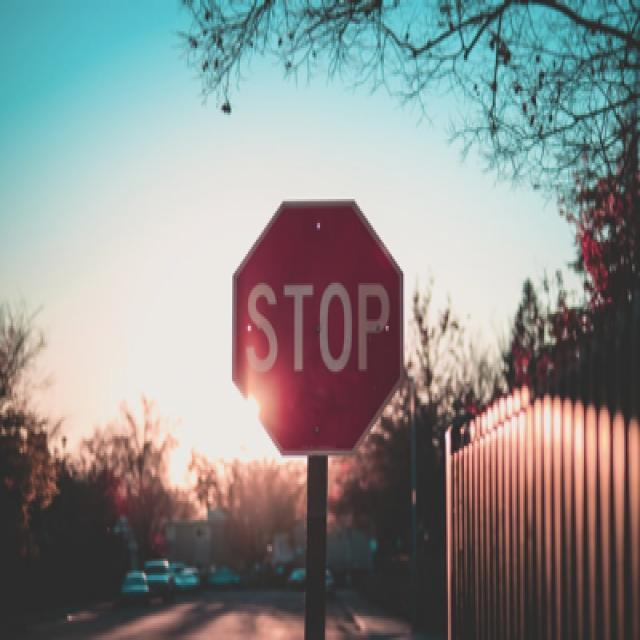stop: (228, 197, 406, 459)
